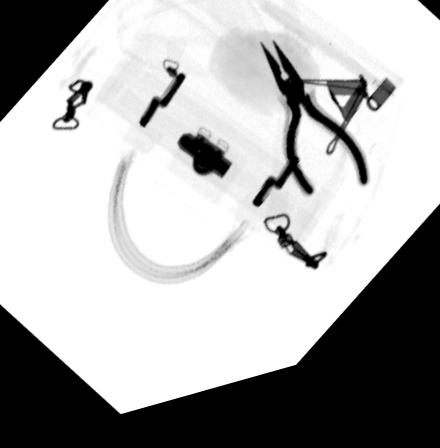Pliers: (259, 54, 371, 215)
